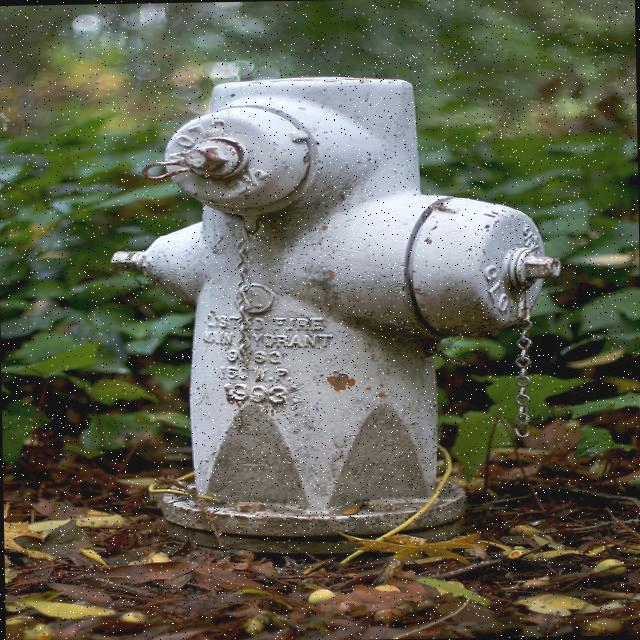fire_hydrant: (106, 75, 564, 558)
